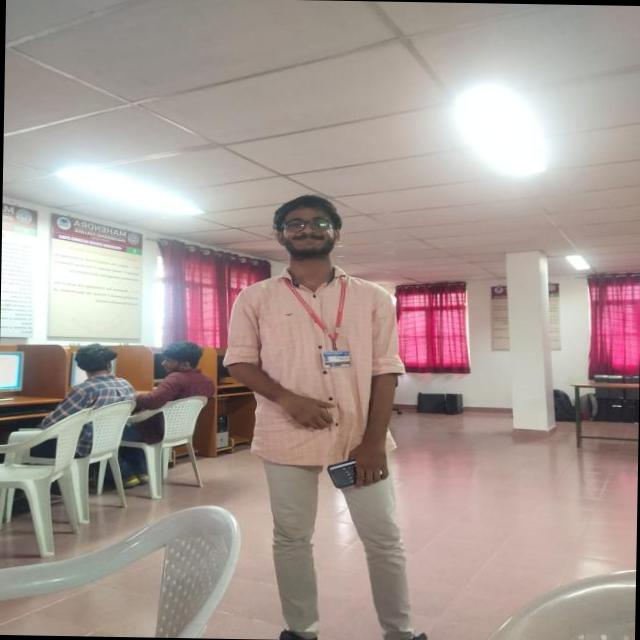id_card: (294, 269, 352, 373)
